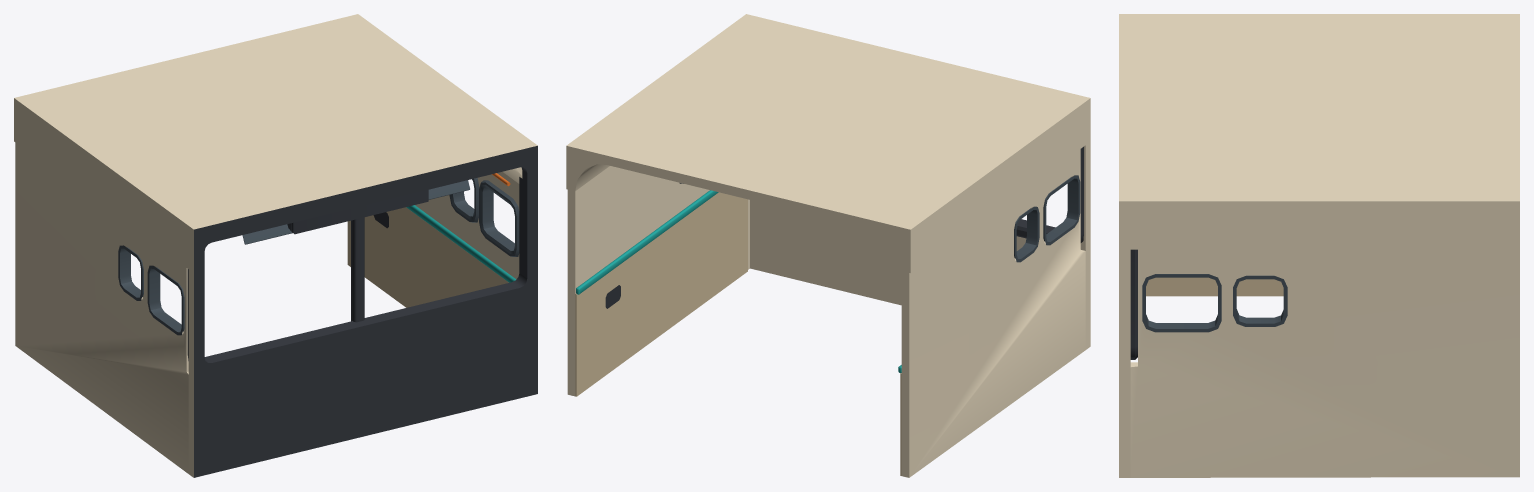
File: CabinaPiloto.fbx
3 renders of one model, left to right at view 1: azimuth 30°, elevation 25°; view 2: azimuth 150°, elevation 25°; view 3: azimuth 270°, elevation 25°, orthographic. The views are drawn at different scales.
Parts seen in each view (by area): view 1: CabinaPiloto; view 2: CabinaPiloto; view 3: CabinaPiloto.
Part boxes in pixels (left/top/right/bottom): CabinaPiloto: left=14, top=14, right=537, bottom=477; CabinaPiloto: left=566, top=14, right=1090, bottom=477; CabinaPiloto: left=1119, top=14, right=1519, bottom=477.
Size of the model in its own units: 11.6 by 8 by 10.5.
1 material, 1 textured.
